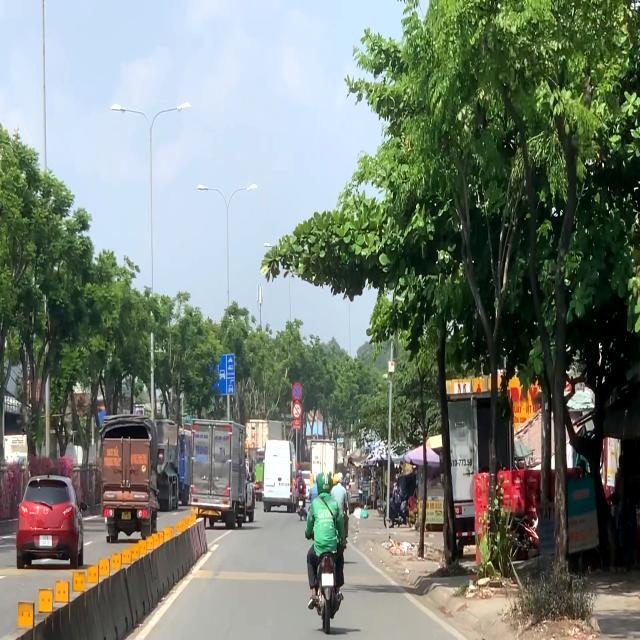P.130: (292, 382, 302, 401)
